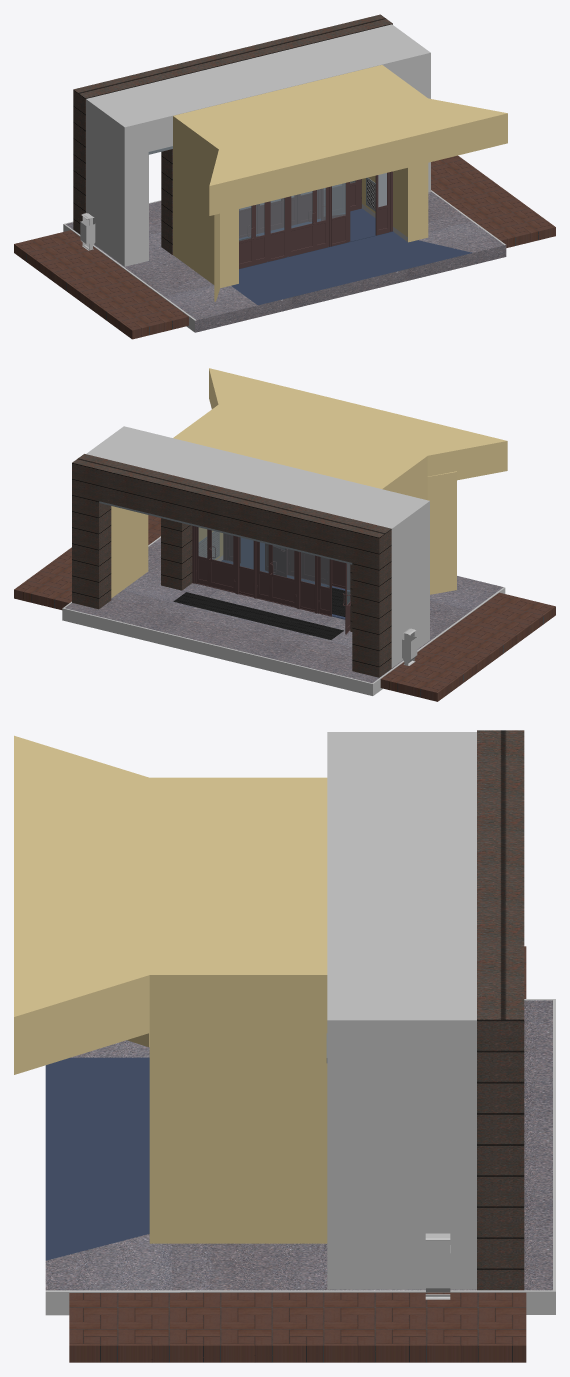
The model's file is krylco.FBX.
The picture shows the model from 3 angles, top to bottom: view 1: azimuth 30°, elevation 25°; view 2: azimuth 150°, elevation 25°; view 3: azimuth 270°, elevation 25°; orthographic projection. The views are drawn at different scales.
Parts seen in each view (by area): view 1: Box158, Box134, Box98, Box2123, Box133, Box201, Box1701, Box203, Plane1973, Box1805, Plane1974, Plane1771 (+11 smaller); view 2: Box133, Box158, Box134, Box98, Box2123, Plane34, Box201, krilzo, Box135, Plane1771, Plane1775, Box1734 (+11 smaller); view 3: Box158, Box134, Box98, Box201, Box133, Box227.
Boxes of the visible parts, x1,y1,x2,y2 form: Box158: [173, 65, 507, 288]; Box134: [86, 24, 430, 266]; Box98: [63, 182, 506, 332]; Box2123: [14, 230, 188, 339]; Box133: [73, 14, 392, 234]; Box201: [431, 155, 555, 247]; Box1701: [161, 149, 172, 254]; Box203: [239, 208, 393, 269]; Plane1973: [289, 190, 314, 256]; Box1805: [291, 191, 312, 227]; Plane1974: [375, 172, 389, 235]; Plane1771: [257, 198, 283, 233]; Box133: [72, 454, 391, 677]; Box158: [173, 368, 507, 561]; Box134: [86, 426, 429, 667]; Box98: [62, 536, 505, 695]; Box2123: [380, 592, 555, 701]; Plane34: [427, 471, 456, 594]; Box201: [14, 515, 160, 609]; krilzo: [173, 592, 343, 639]; Box135: [161, 518, 192, 590]; Plane1771: [270, 545, 295, 607]; Plane1775: [209, 530, 234, 592]; Box1734: [211, 530, 233, 564]; Box158: [14, 735, 327, 1243]; Box134: [327, 732, 476, 1289]; Box98: [45, 999, 555, 1315]; Box201: [69, 1292, 526, 1362]; Box133: [477, 730, 524, 1290]; Box227: [426, 1245, 450, 1292].
Size of the model in its own units: 434 by 249 by 149.
